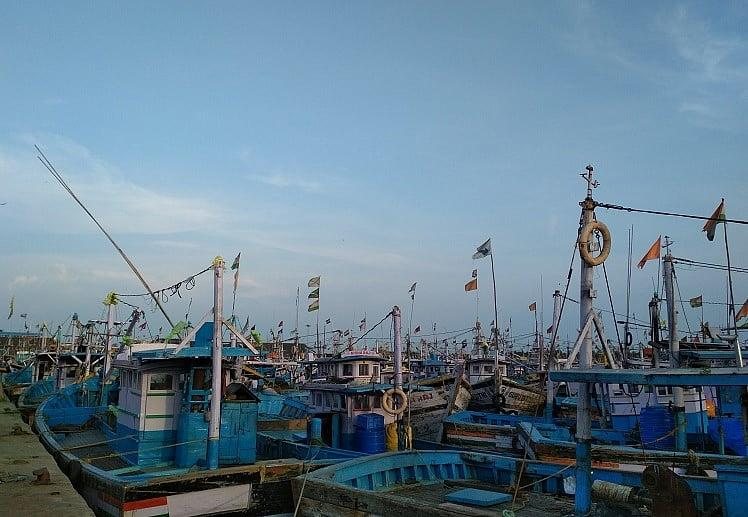fishing boat: (32, 254, 384, 517), (438, 312, 748, 467), (304, 307, 474, 440)
